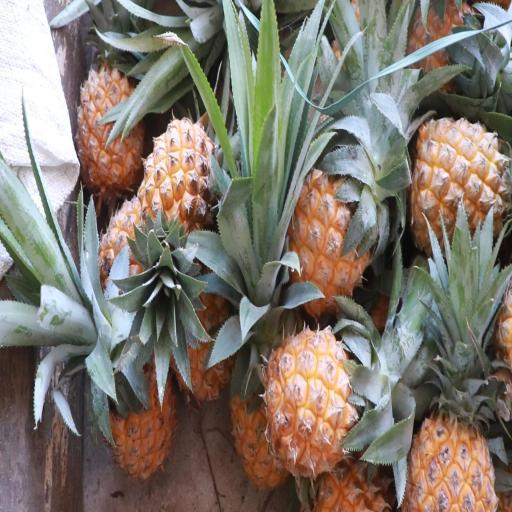Pineapple - v8 v1: (399, 281, 499, 512), (263, 319, 369, 490), (406, 115, 511, 267), (276, 154, 371, 321), (94, 299, 178, 485), (134, 113, 223, 249), (72, 57, 148, 199)
